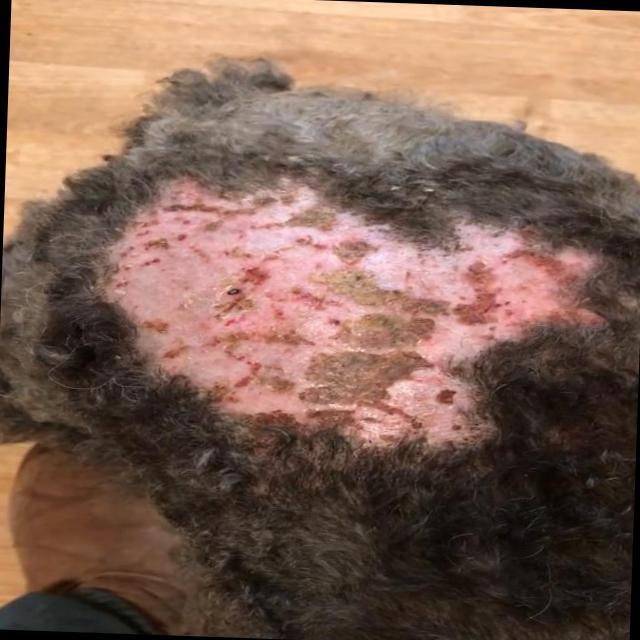allergic dermatitis: (105, 162, 602, 462)
